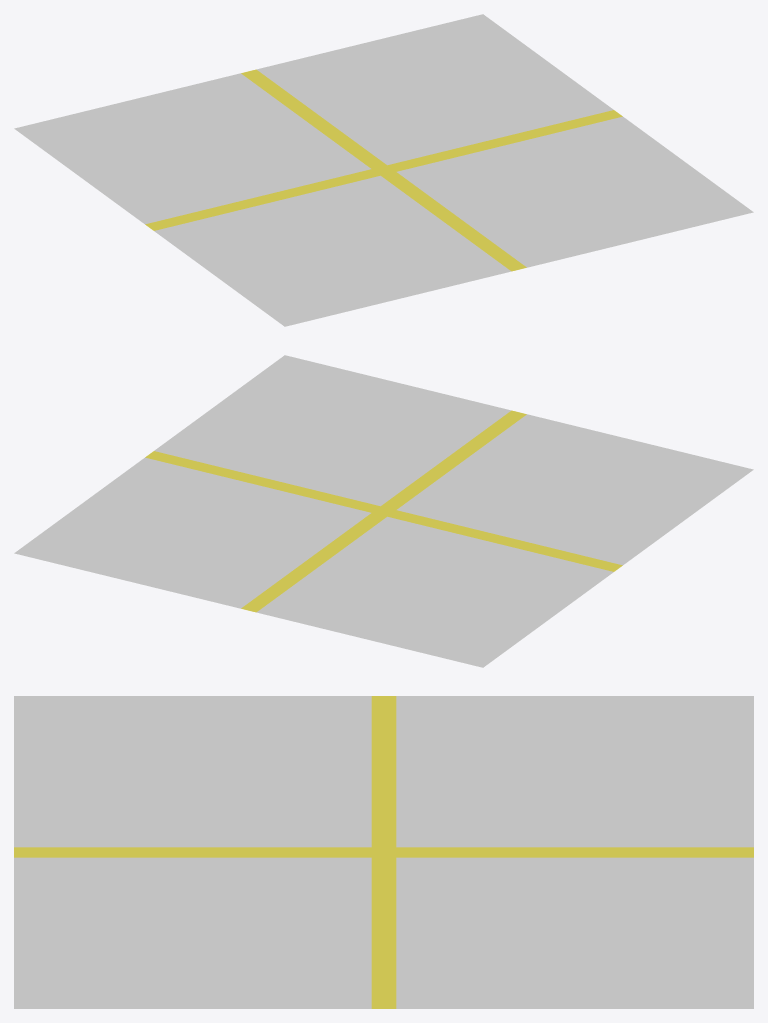
File: Tile.fbx
3 renders of one model, top to bottom at view 1: azimuth 30°, elevation 25°; view 2: azimuth 150°, elevation 25°; view 3: azimuth 270°, elevation 25°, orthographic. The views are drawn at different scales.
Visible parts, largest first — view 1: Plane; view 2: Plane; view 3: Plane.
Boxes of the visible parts, x1,y1,x2,y2 form: Plane: (14, 14, 753, 326); Plane: (14, 355, 753, 667); Plane: (14, 696, 753, 1008).
Size of the model in its own units: 1 by 0 by 1.
